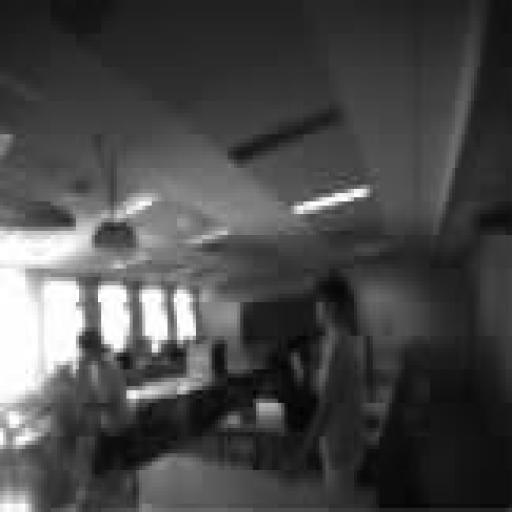human: (288, 273, 363, 499), (76, 328, 132, 503)
